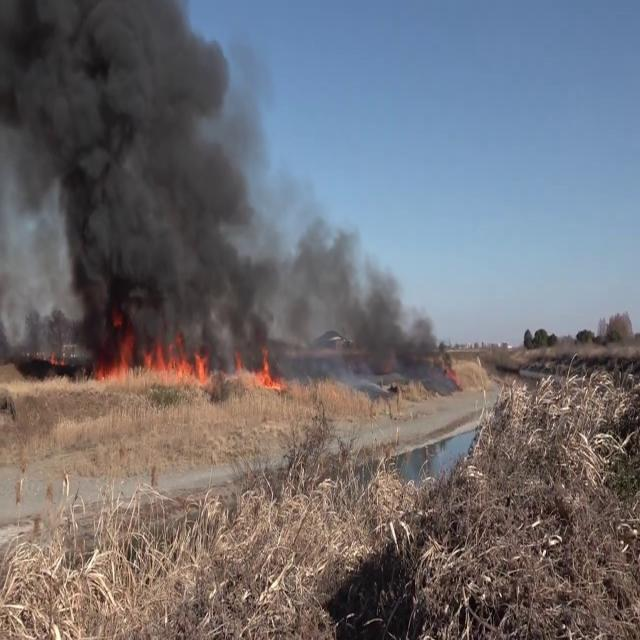Fire: (88, 318, 212, 389), (232, 341, 286, 392)
Smoke: (0, 0, 270, 351), (274, 202, 450, 380)
